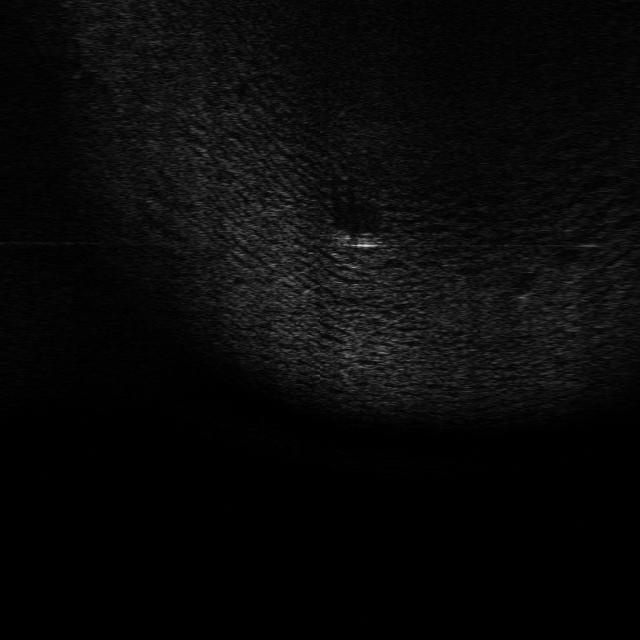plane: (338, 230, 382, 252)
